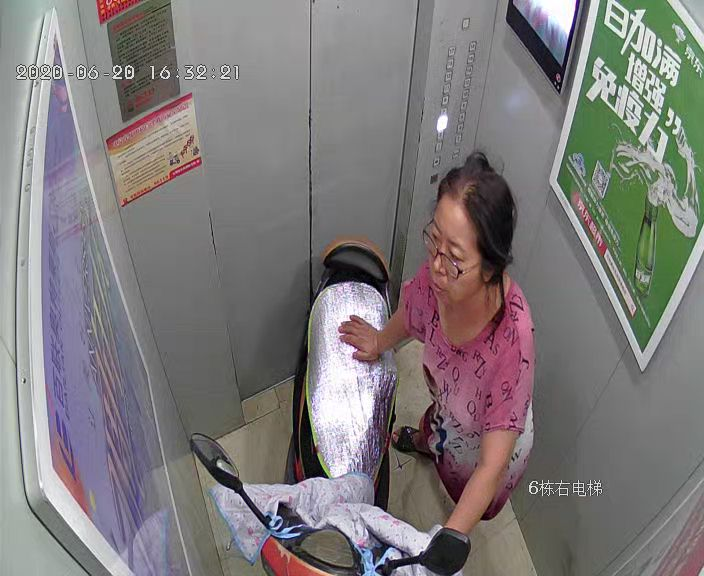Electric-bicycle: (192, 237, 469, 576)
